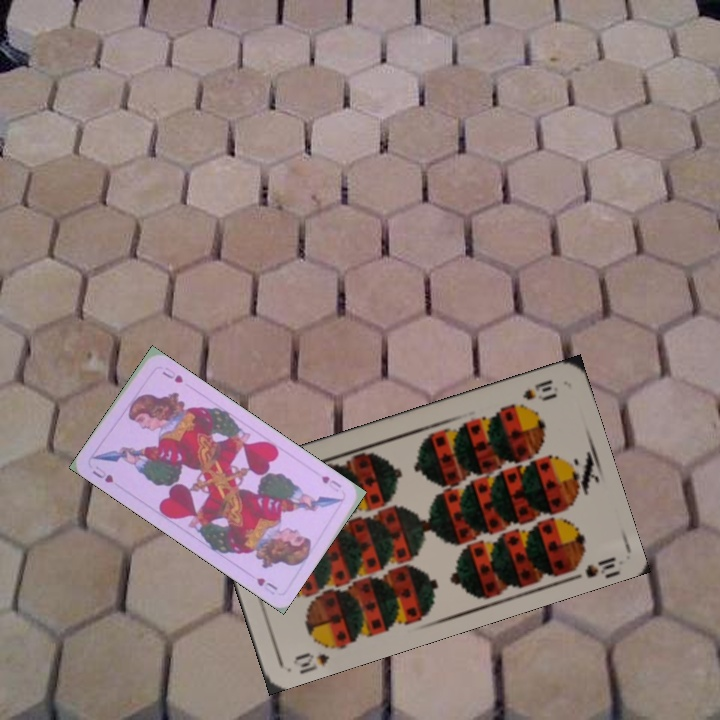HU: (88, 462, 116, 486), (317, 472, 344, 495)
S10: (289, 639, 343, 676), (518, 375, 559, 403)
